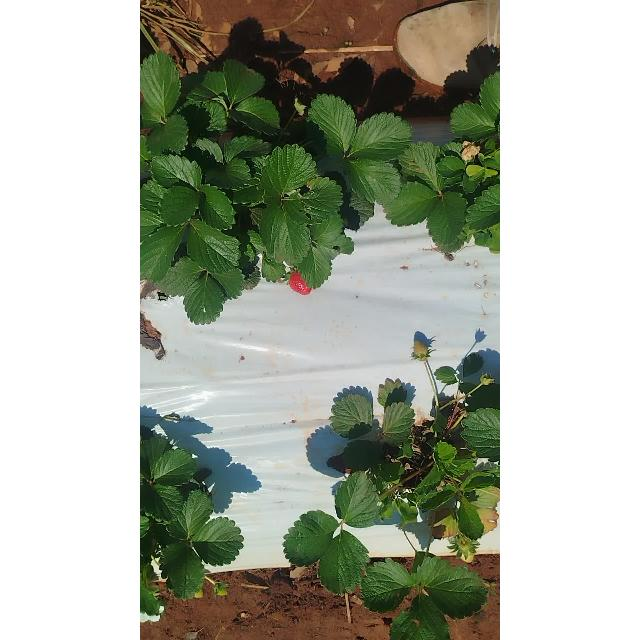maduro: (288, 272, 312, 296)
no-maduro: (414, 339, 428, 355)
